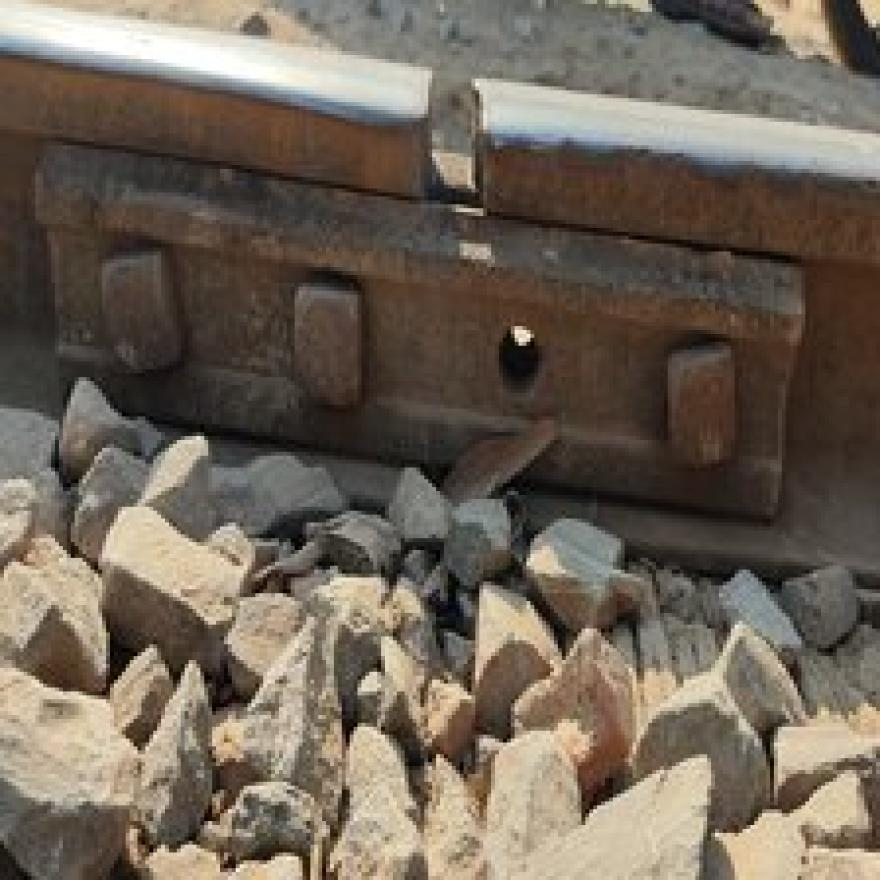railway-gap: (319, 30, 569, 259)
